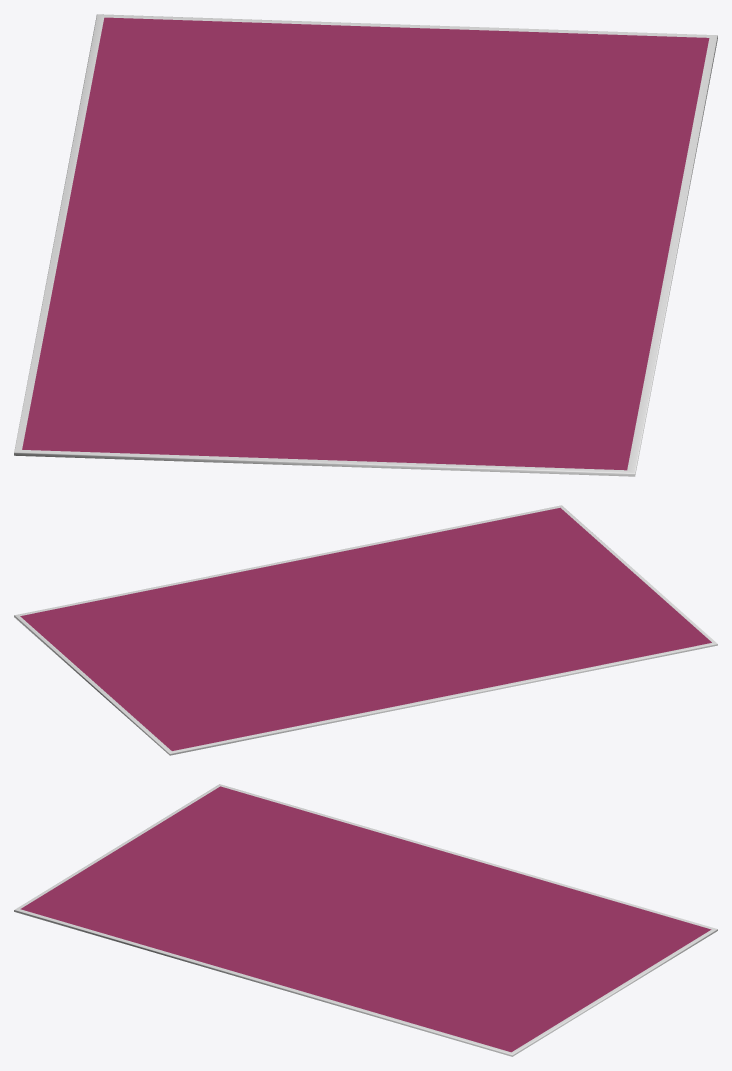
File: Advertising-Hell-Terrain-City-Inner-Sidewalk.fbx
3 renders of one model, top to bottom at view 1: azimuth 30°, elevation 25°; view 2: azimuth 150°, elevation 25°; view 3: azimuth 270°, elevation 25°, orthographic. The views are drawn at different scales.
Parts seen in each view (by area): view 1: Advertising-Hell-Terrain-City-Inner-Sidewalk; view 2: Advertising-Hell-Terrain-City-Inner-Sidewalk; view 3: Advertising-Hell-Terrain-City-Inner-Sidewalk.
Boxes of the visible parts, box(x1,y1,x2,y2) form: Advertising-Hell-Terrain-City-Inner-Sidewalk: box(14, 14, 717, 476); Advertising-Hell-Terrain-City-Inner-Sidewalk: box(14, 505, 717, 755); Advertising-Hell-Terrain-City-Inner-Sidewalk: box(14, 784, 717, 1056).
Bounding box in the file's own units: 8504 × 27.28 × 9329.
